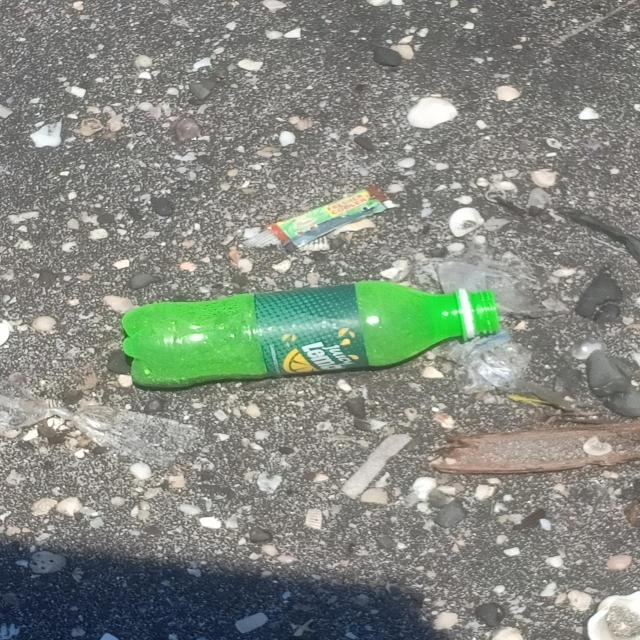plastic_waste: (121, 280, 501, 390), (265, 185, 395, 253)
